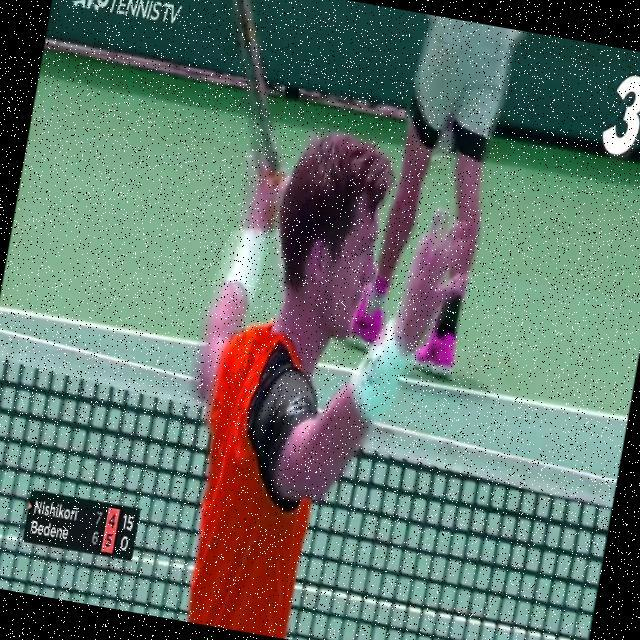player: (119, 0, 508, 640)
